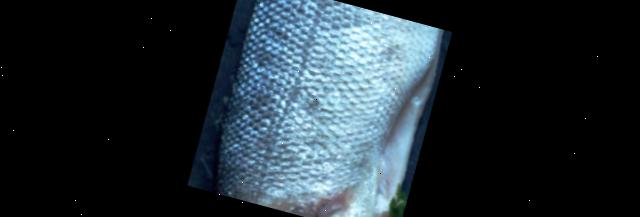Healthy Fish: (216, 0, 443, 217)
